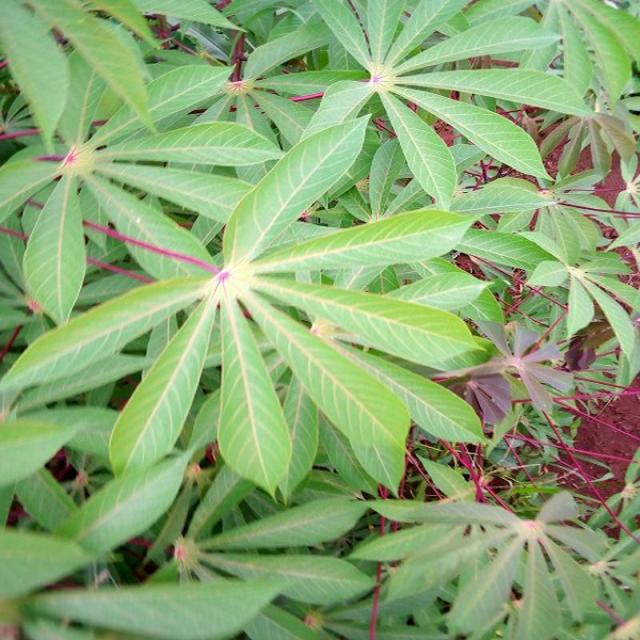cassava leaf: (0, 1, 638, 637), (5, 113, 495, 504)
